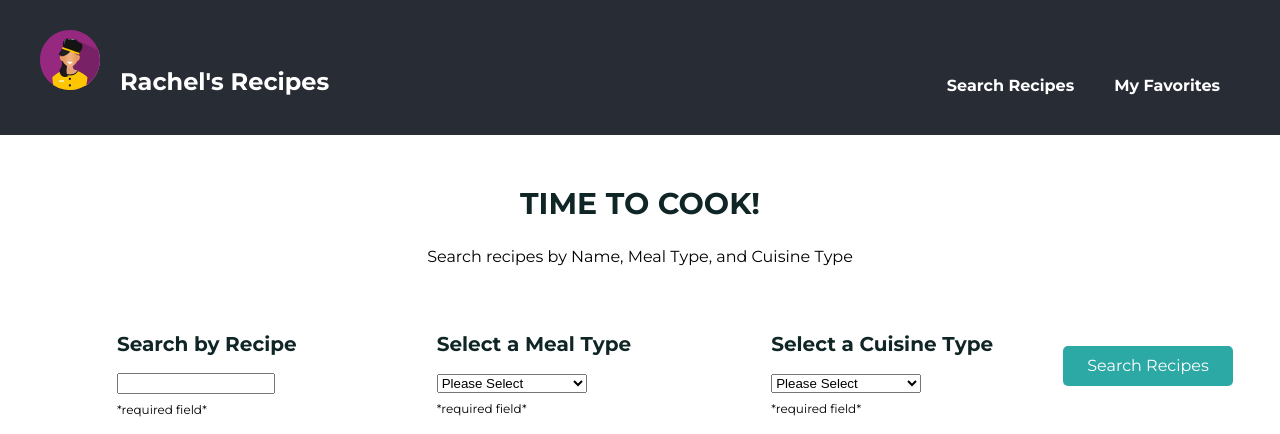
Test: tests if nav bar favorites link works
The image size is (1280, 434).
Click the link "My Favorites": (1167, 85) [1114,76,1220,95]
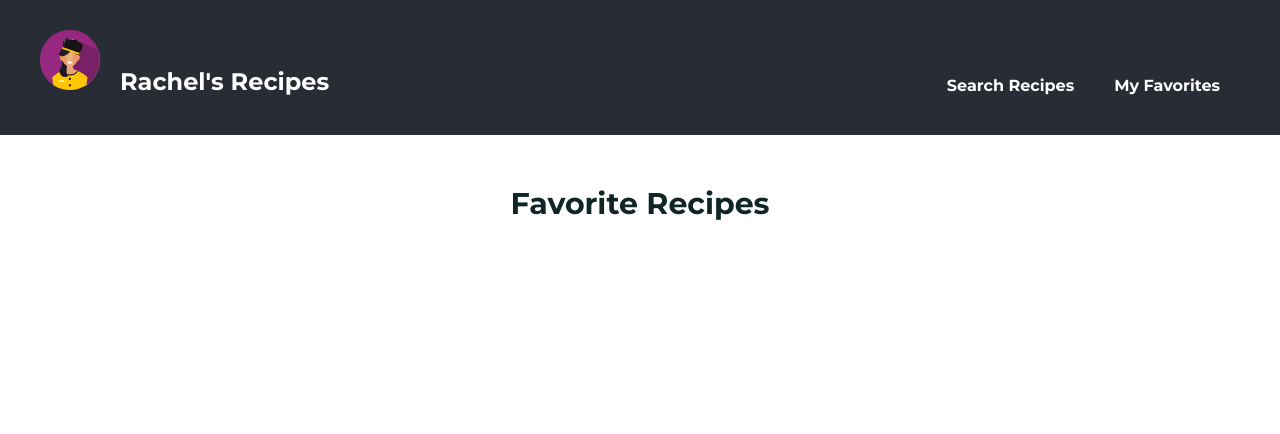
Now the heading "Favorite Recipes" is shown, box [510,185,770,222]
